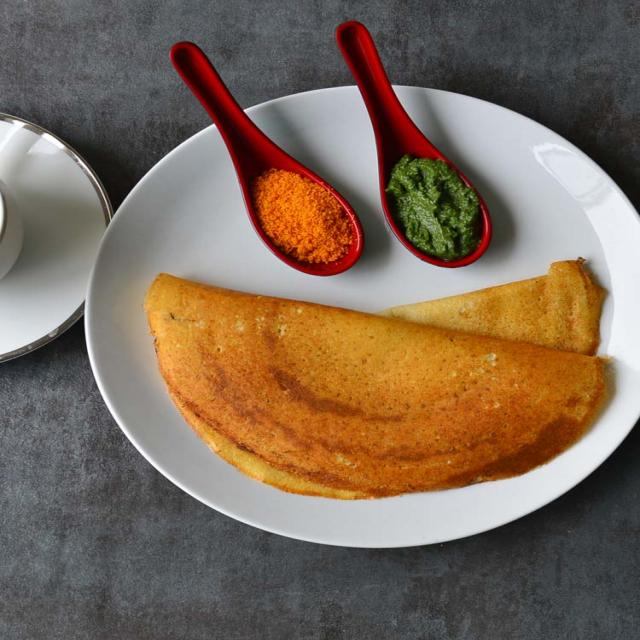dosa: (130, 264, 629, 498)
